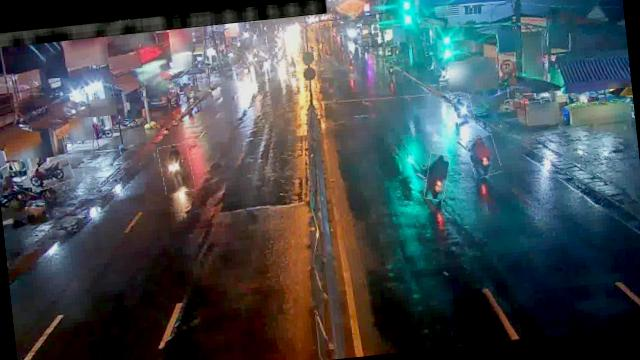Bike: (158, 144, 194, 194), (422, 152, 452, 201), (466, 136, 501, 178), (27, 160, 74, 190), (452, 94, 474, 127), (384, 56, 395, 75)
